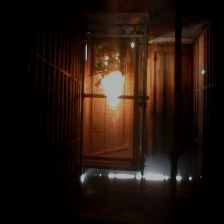fire: (91, 59, 134, 120)
